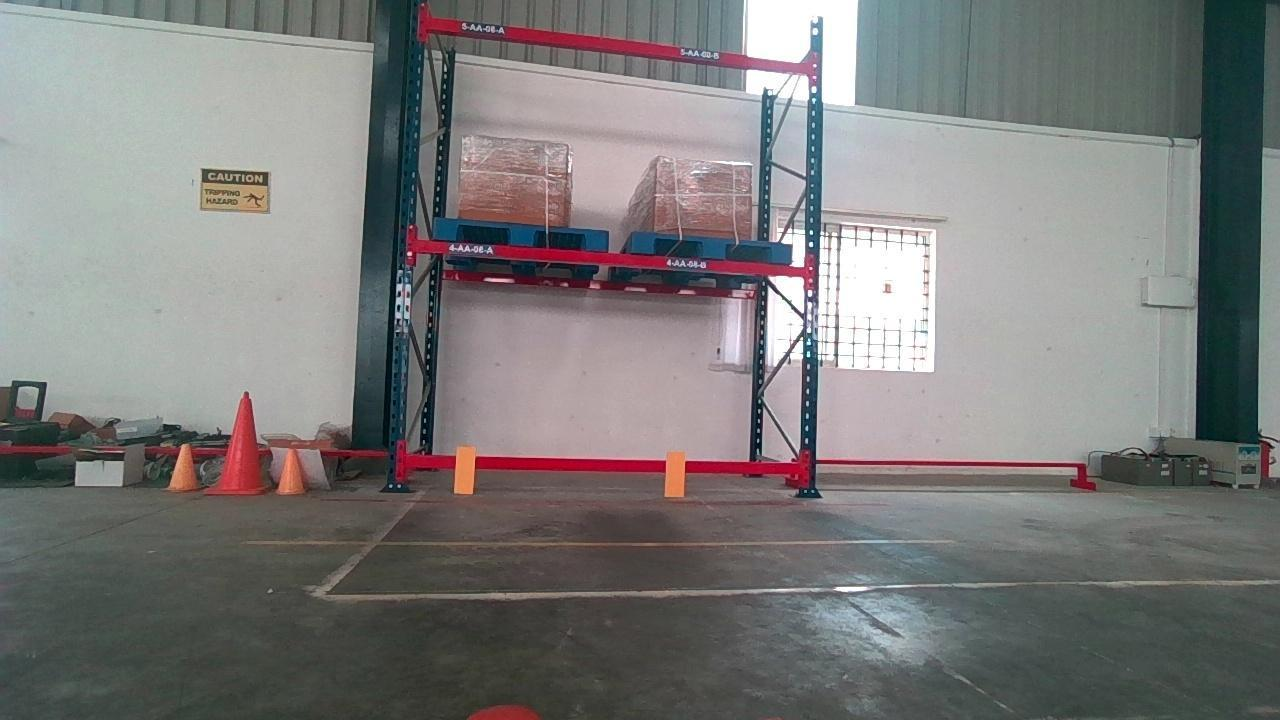h_rack: (424, 11, 813, 73), (410, 240, 807, 278), (409, 455, 805, 476)
orange_strip: (455, 444, 477, 493), (664, 453, 684, 497)
small_pallet: (426, 217, 608, 252), (627, 232, 793, 264)
yellow_line: (260, 535, 959, 546)
